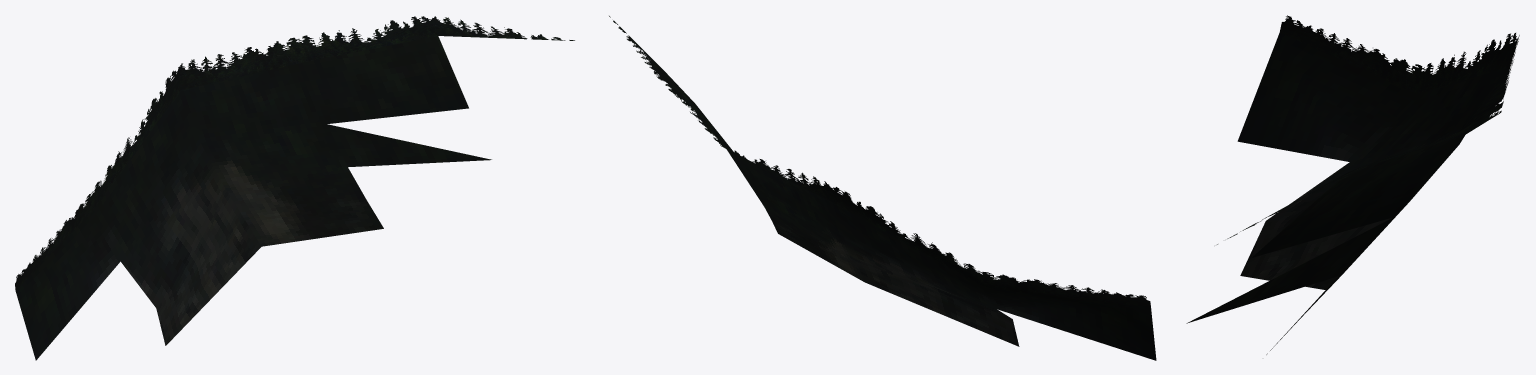
File: cell_-5_-13.gltf
The picture shows the model from 3 angles, left to right: view 1: azimuth 30°, elevation 25°; view 2: azimuth 150°, elevation 25°; view 3: azimuth 270°, elevation 25°; orthographic projection. The views are drawn at different scales.
Visible parts, largest first — view 1: cell_-5_-13; view 2: cell_-5_-13; view 3: cell_-5_-13.
Boxes of the visible parts, box(x1,y1,x2,y2) form: cell_-5_-13: box(15, 16, 574, 360); cell_-5_-13: box(609, 16, 1156, 360); cell_-5_-13: box(1186, 15, 1519, 354).
Bounding box in the file's own units: 87.89 × 34.7 × 28.66.
2 materials, 2 textured.
